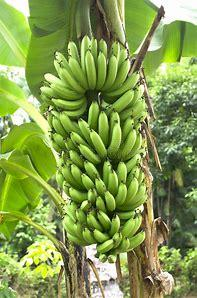banana: (30, 31, 162, 249), (38, 36, 141, 122), (44, 114, 156, 190), (48, 193, 143, 244)
